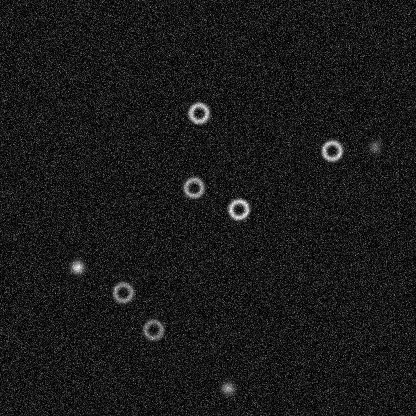Ring: (186, 100, 210, 124), (181, 175, 205, 199), (110, 280, 134, 304), (141, 317, 165, 341), (319, 138, 343, 162), (226, 197, 250, 221)
Spot: (220, 380, 236, 396), (69, 259, 85, 275), (366, 138, 382, 154)
